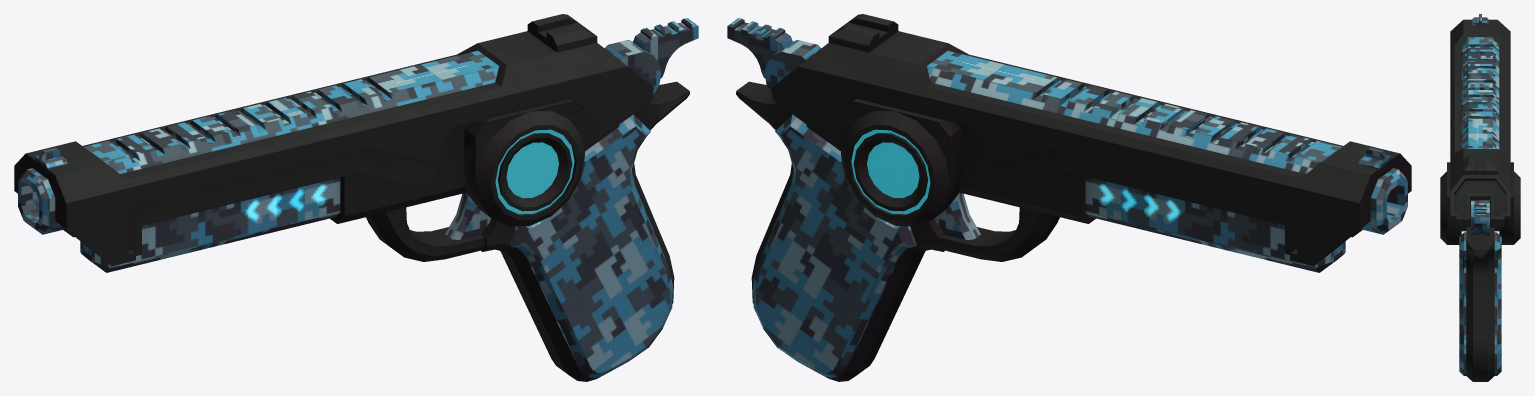
The model's file is pistol3.fbx.
3 views of the same model, side by side, from view 1: azimuth 30°, elevation 25°; view 2: azimuth 150°, elevation 25°; view 3: azimuth 270°, elevation 25° (orthographic). The views are drawn at different scales.
Visible parts, largest first — view 1: Pistol3, Pistol3_Hammer, Pistol3_Trigger; view 2: Pistol3, Pistol3_Hammer, Pistol3_Trigger; view 3: Pistol3, Pistol3_Hammer.
Boxes of the visible parts, x1,y1,x2,y2 form: Pistol3: [14, 14, 689, 381]; Pistol3_Hammer: [604, 18, 698, 95]; Pistol3_Trigger: [445, 192, 490, 239]; Pistol3: [736, 14, 1411, 381]; Pistol3_Hammer: [727, 18, 821, 95]; Pistol3_Trigger: [935, 192, 980, 239]; Pistol3: [1440, 14, 1520, 381]; Pistol3_Hammer: [1471, 200, 1489, 236].
Size of the model in its own units: 242 by 125 by 43.29.
